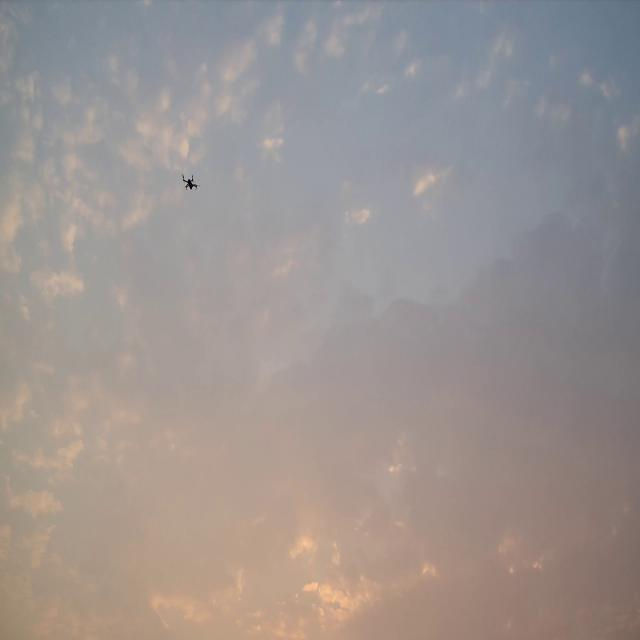UAV: (182, 174, 200, 190)
